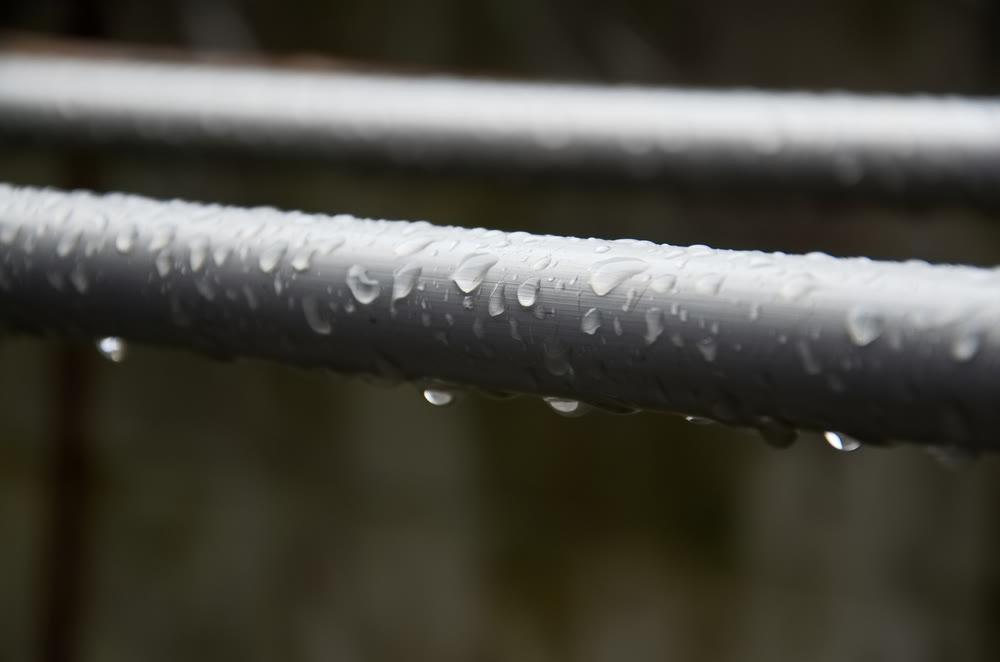water drop: (414, 376, 460, 406), (596, 394, 648, 420), (759, 417, 801, 446), (546, 391, 587, 417), (822, 424, 859, 452), (674, 410, 723, 429), (99, 334, 130, 362), (472, 381, 514, 400)
